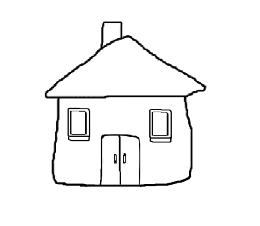chimney: (96, 17, 127, 53)
door: (97, 131, 142, 191)
open_window: (147, 105, 174, 144), (66, 105, 93, 143)
roof: (44, 35, 209, 103)
wall: (52, 93, 193, 189)
